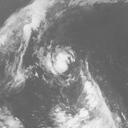cyclone: (39, 47, 73, 75)
